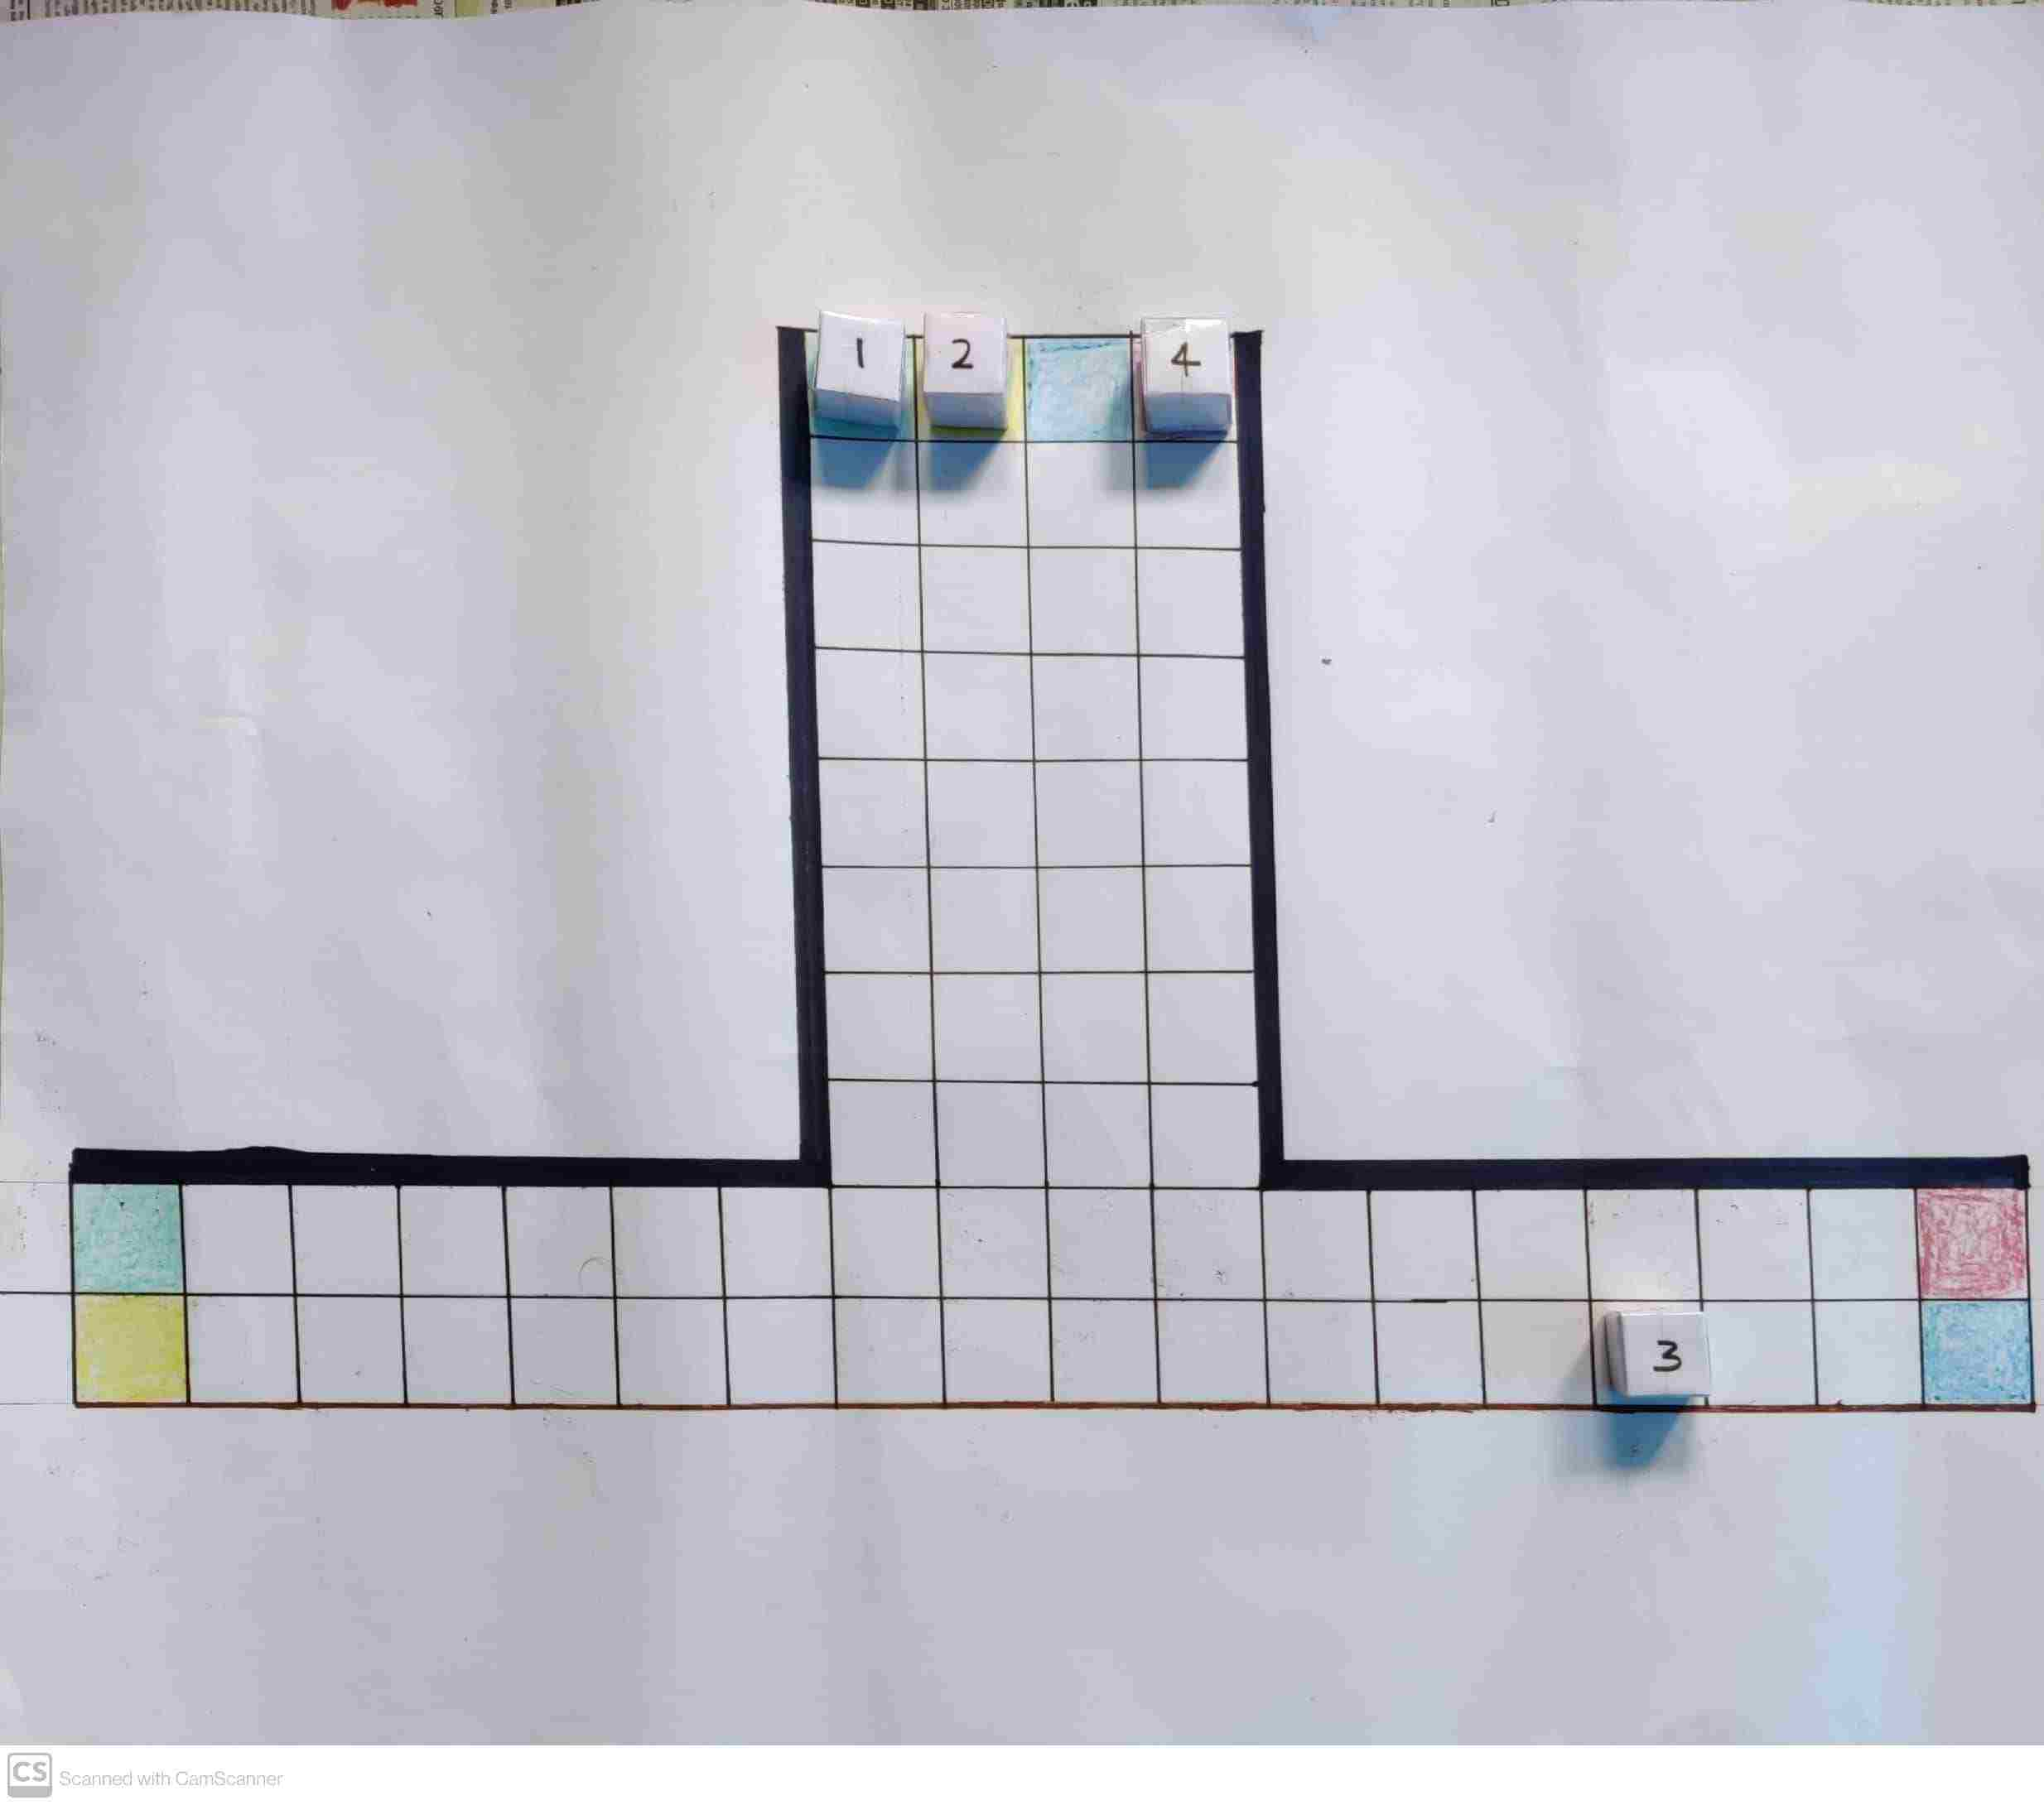arena: (73, 322, 2032, 1411)
bot: (817, 317, 903, 397), (1624, 1317, 1708, 1396), (925, 317, 1005, 390), (1148, 319, 1230, 390)
